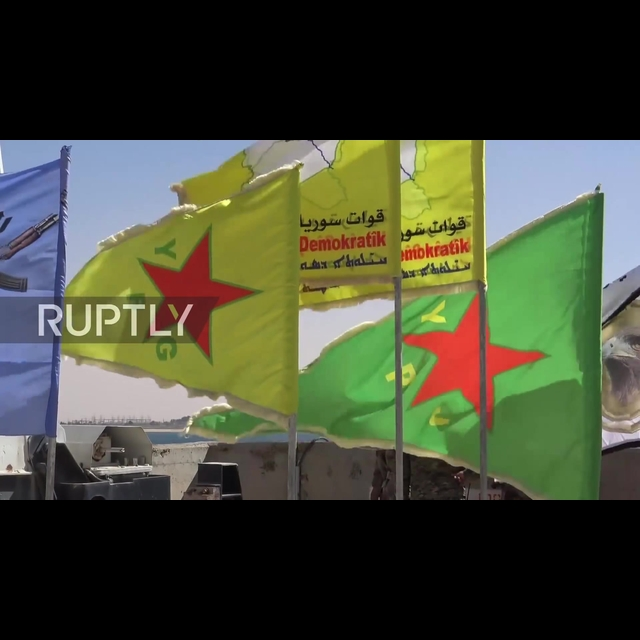YPJ: (375, 303, 551, 438)
